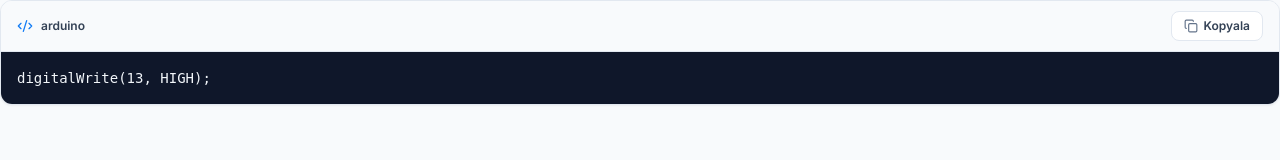
CodeBlockWithCopy Component › falls back to document.execCommand when clipboard API is unavailable
The image size is (1280, 160).
Click the button "Kopyala": point(1217, 26) [1171,11,1263,41]
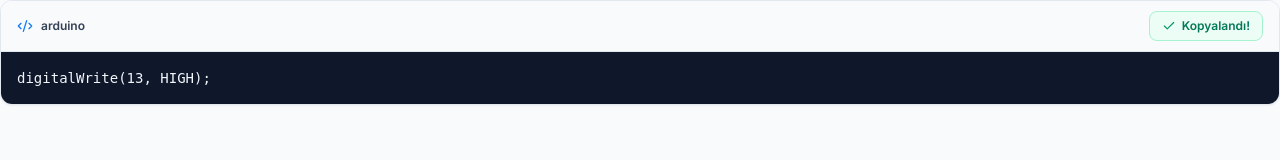
Expected: the text "Kopyalandı!" is shown, [1182,18,1250,34]
